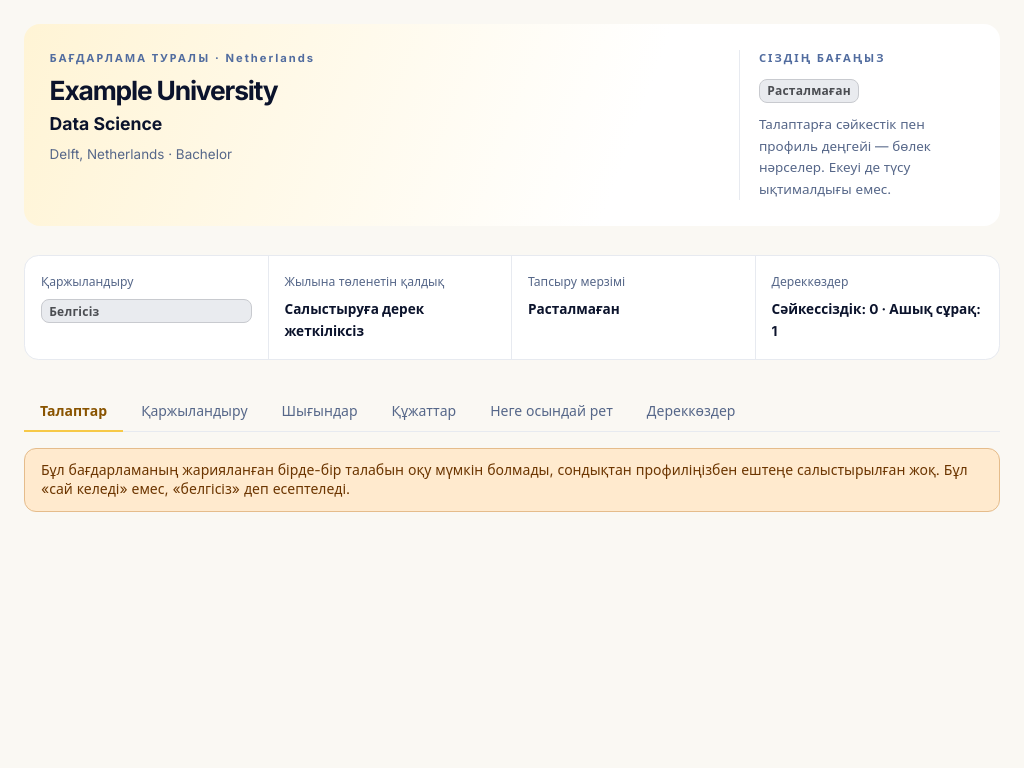
Scenario: the result detail in Kazakh and Russian › re-renders in Kazakh, keyed questions included, unkeyed ones left in English
Expected: the tab with test id "tab-costs" reads "Шығындар", [266,392,374,432]
Expected: the text "Расталмаған" below "СІЗДІҢ БАҒАҢЫЗ" is shown, [767,83,851,98]
Click the tab with test id "tab-sources" at (691, 412), box [631,392,752,432]
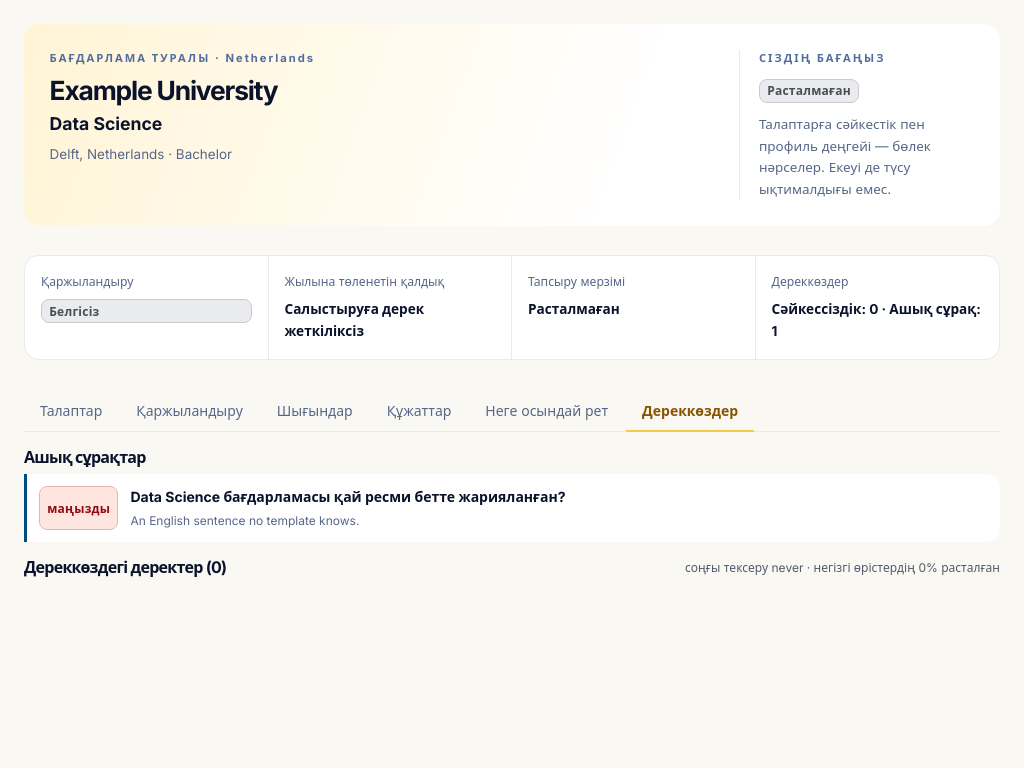
Now the text "Data Science бағдарламасы қай ресми бетте жарияланған?" is shown, box [130,488,566,505]
Now the text "An English sentence no template knows." is shown, box [130,513,359,528]
Now the text "маңызды" is shown, box [39,486,118,530]
